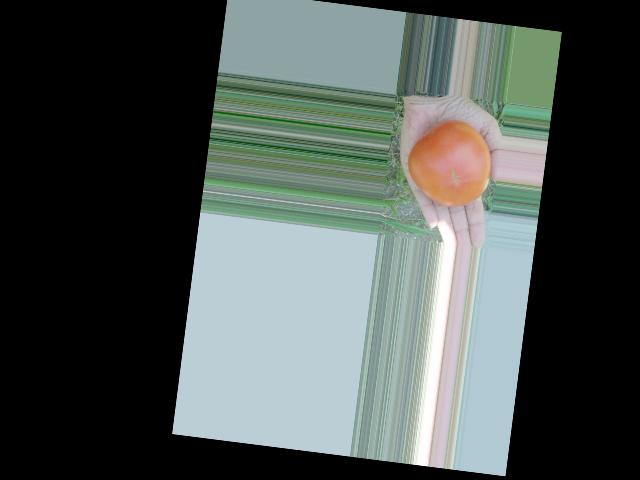tomato: (402, 116, 496, 211)
